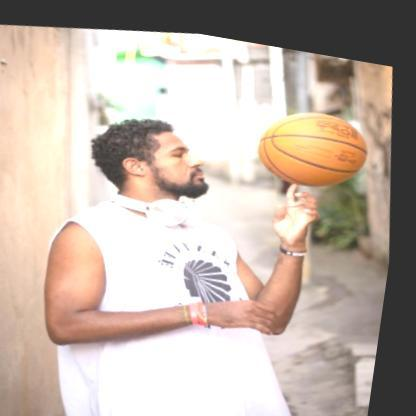basketball: (255, 89, 376, 188)
